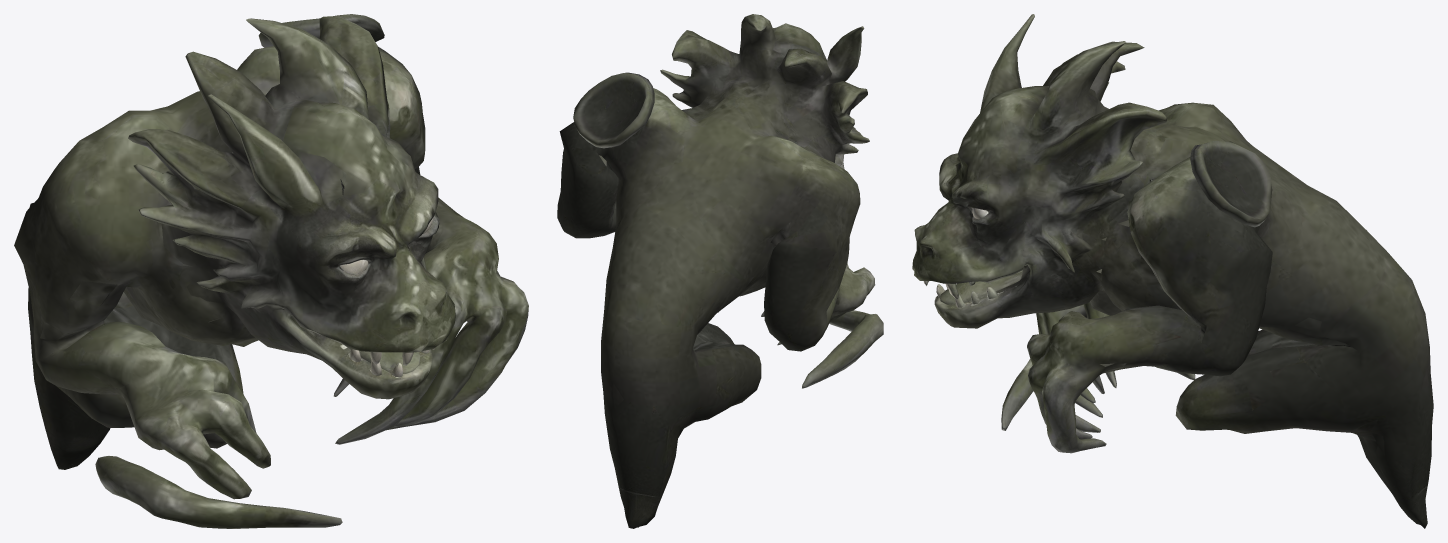
The model's file is gargoyle.glb.
3 views of the same model, side by side, from view 1: azimuth 30°, elevation 25°; view 2: azimuth 150°, elevation 25°; view 3: azimuth 270°, elevation 25° (orthographic). The views are drawn at different scales.
Size of the model in its own units: 0.7375 by 1 by 0.9754.
Materials: 1 (1 with a texture image).
